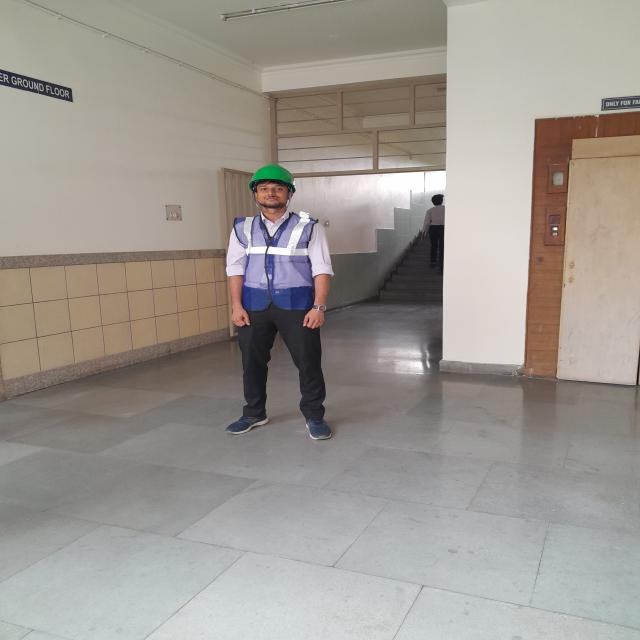safe: (226, 164, 332, 442)
